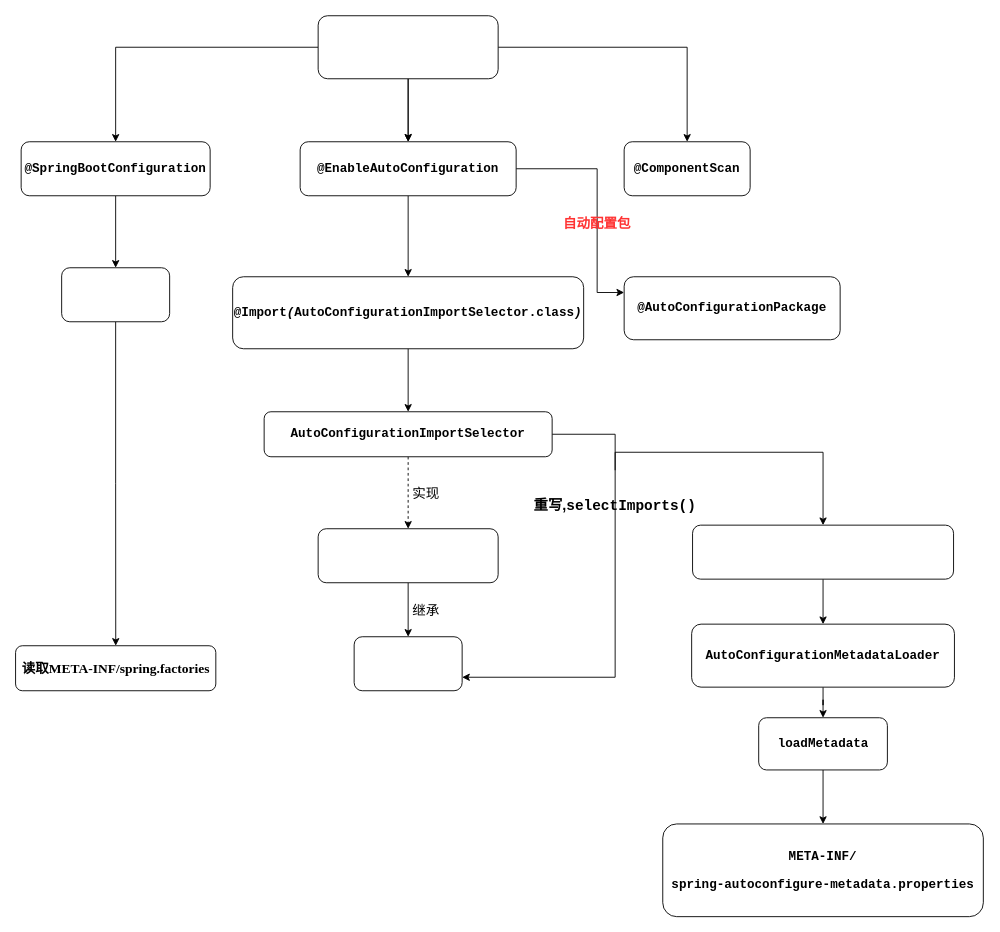
Image size: 1000x932. Some labels were removed from this diagram. The centre of each missing label's shape, as x and y in pixels:
@Configuration: [115,294]
@SpringBootApplication: [407,47]
DeferredImportSelector: [407,555]
getAutoConfigurationMetadata(): [823,551]
ImportSelector: [407,663]
